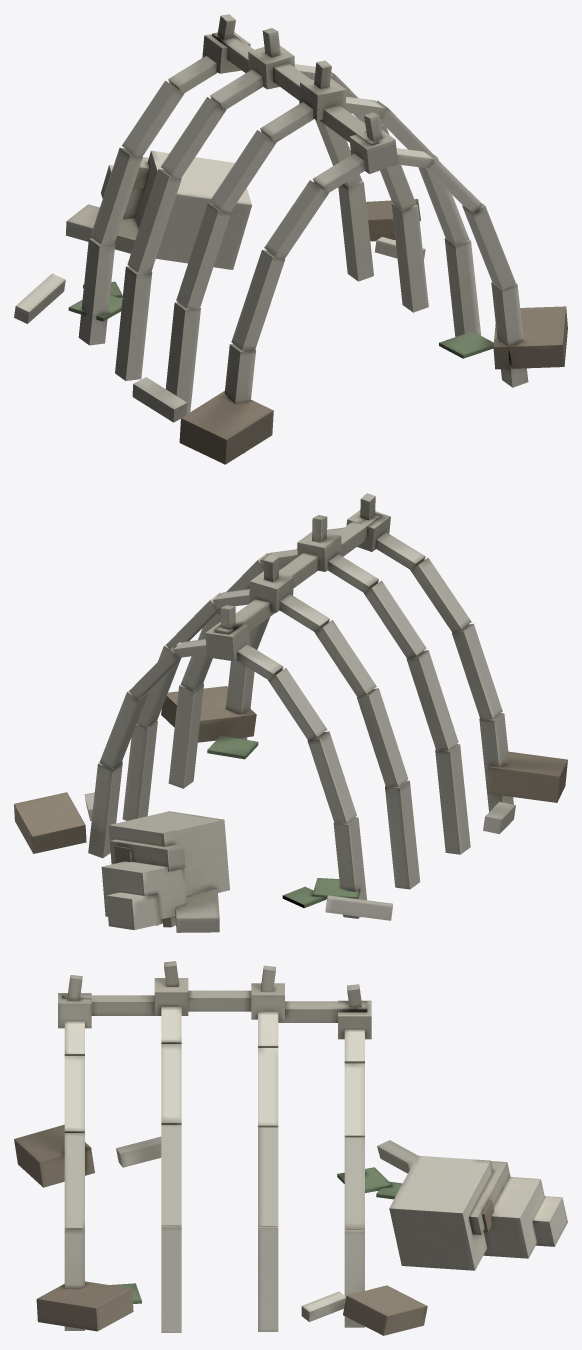
File: boneribs.glb
The picture shows the model from 3 angles, top to bottom: view 1: azimuth 30°, elevation 25°; view 2: azimuth 150°, elevation 25°; view 3: azimuth 270°, elevation 25°; orthographic projection. The views are drawn at different scales.
Visible parts, largest first — view 1: boneribs; view 2: boneribs; view 3: boneribs.
Part boxes in pixels (x1=…): boneribs: x1=14, y1=14, x2=567, y2=464; boneribs: x1=14, y1=493, x2=567, y2=932; boneribs: x1=14, y1=961, x2=567, y2=1335.
Bounding box in the file's own units: 8.78 × 6.52 × 10.89.
Materials: 4 (4 with a texture image).
